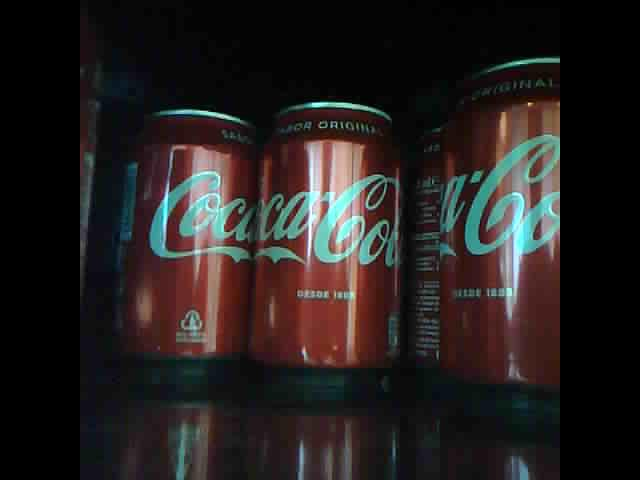coca cola: (254, 97, 403, 382), (115, 108, 254, 367), (456, 47, 558, 392), (407, 106, 463, 379)
